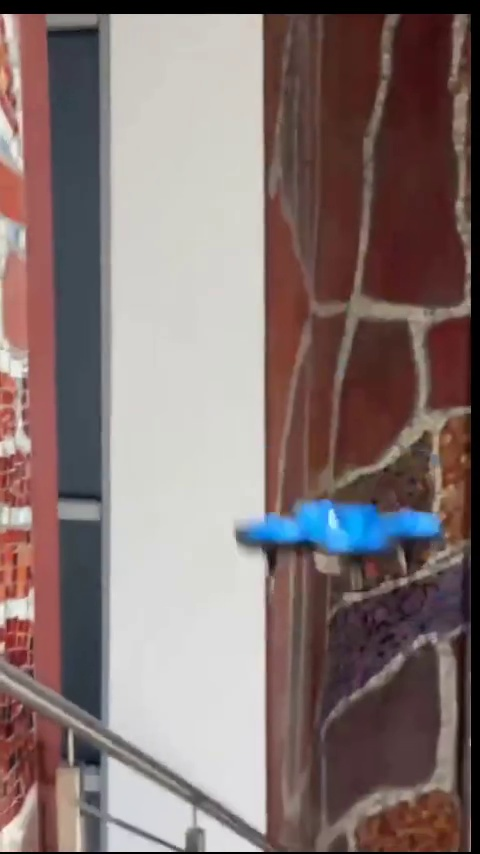drone: (236, 499, 442, 584)
